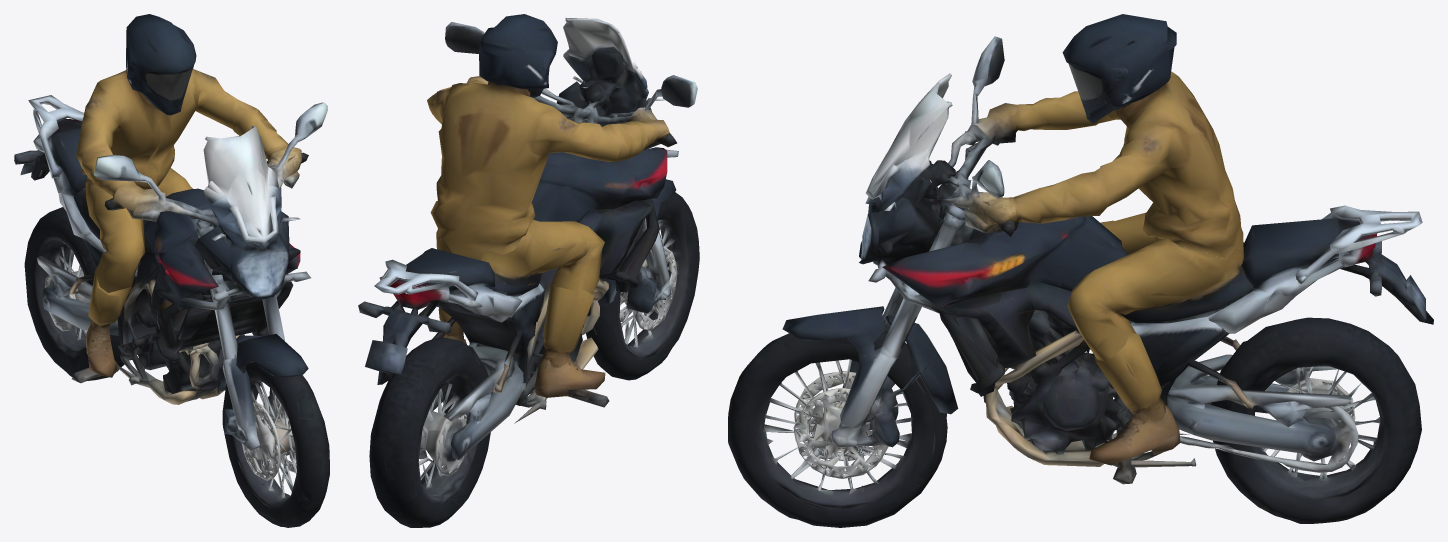
The model's file is adventure-motorcycle-lite.glb.
3 views of the same model, side by side, from view 1: azimuth 30°, elevation 25°; view 2: azimuth 150°, elevation 25°; view 3: azimuth 270°, elevation 25° (orthographic). The views are drawn at different scales.
Parts seen in each view (by area): view 1: body, wheel_front_mesh, wheel_rear_mesh; view 2: body, wheel_rear_mesh, wheel_front_mesh; view 3: body, wheel_front_mesh, wheel_rear_mesh.
Boxes of the visible parts, x1,y1,x2,y2 form: body: (14, 14, 327, 450); wheel_front_mesh: (222, 362, 329, 527); wheel_rear_mesh: (24, 207, 124, 380); body: (358, 14, 697, 475); wheel_rear_mesh: (369, 337, 490, 527); wheel_front_mesh: (586, 192, 699, 380); body: (782, 14, 1433, 484); wheel_front_mesh: (728, 330, 947, 527); wheel_rear_mesh: (1211, 317, 1421, 523).
Size of the model in its own units: 1.07 by 1.82 by 2.3.
Materials: 1 (1 with a texture image).
